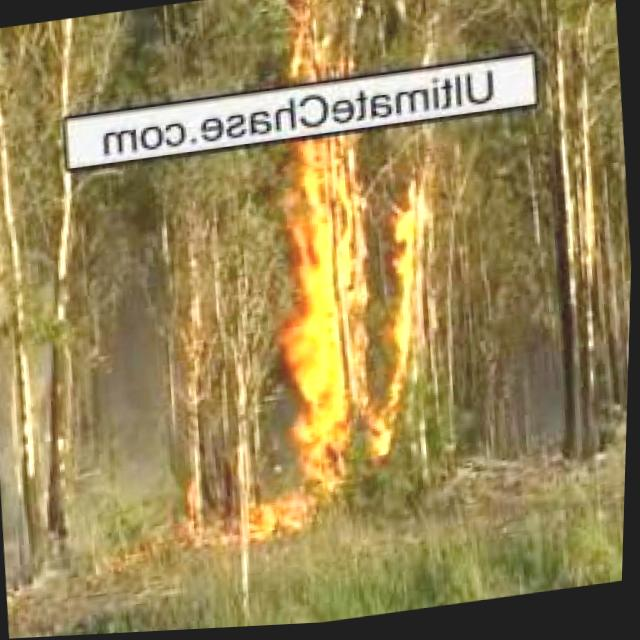Fire: (253, 120, 467, 485), (278, 0, 345, 97), (248, 496, 311, 548)
